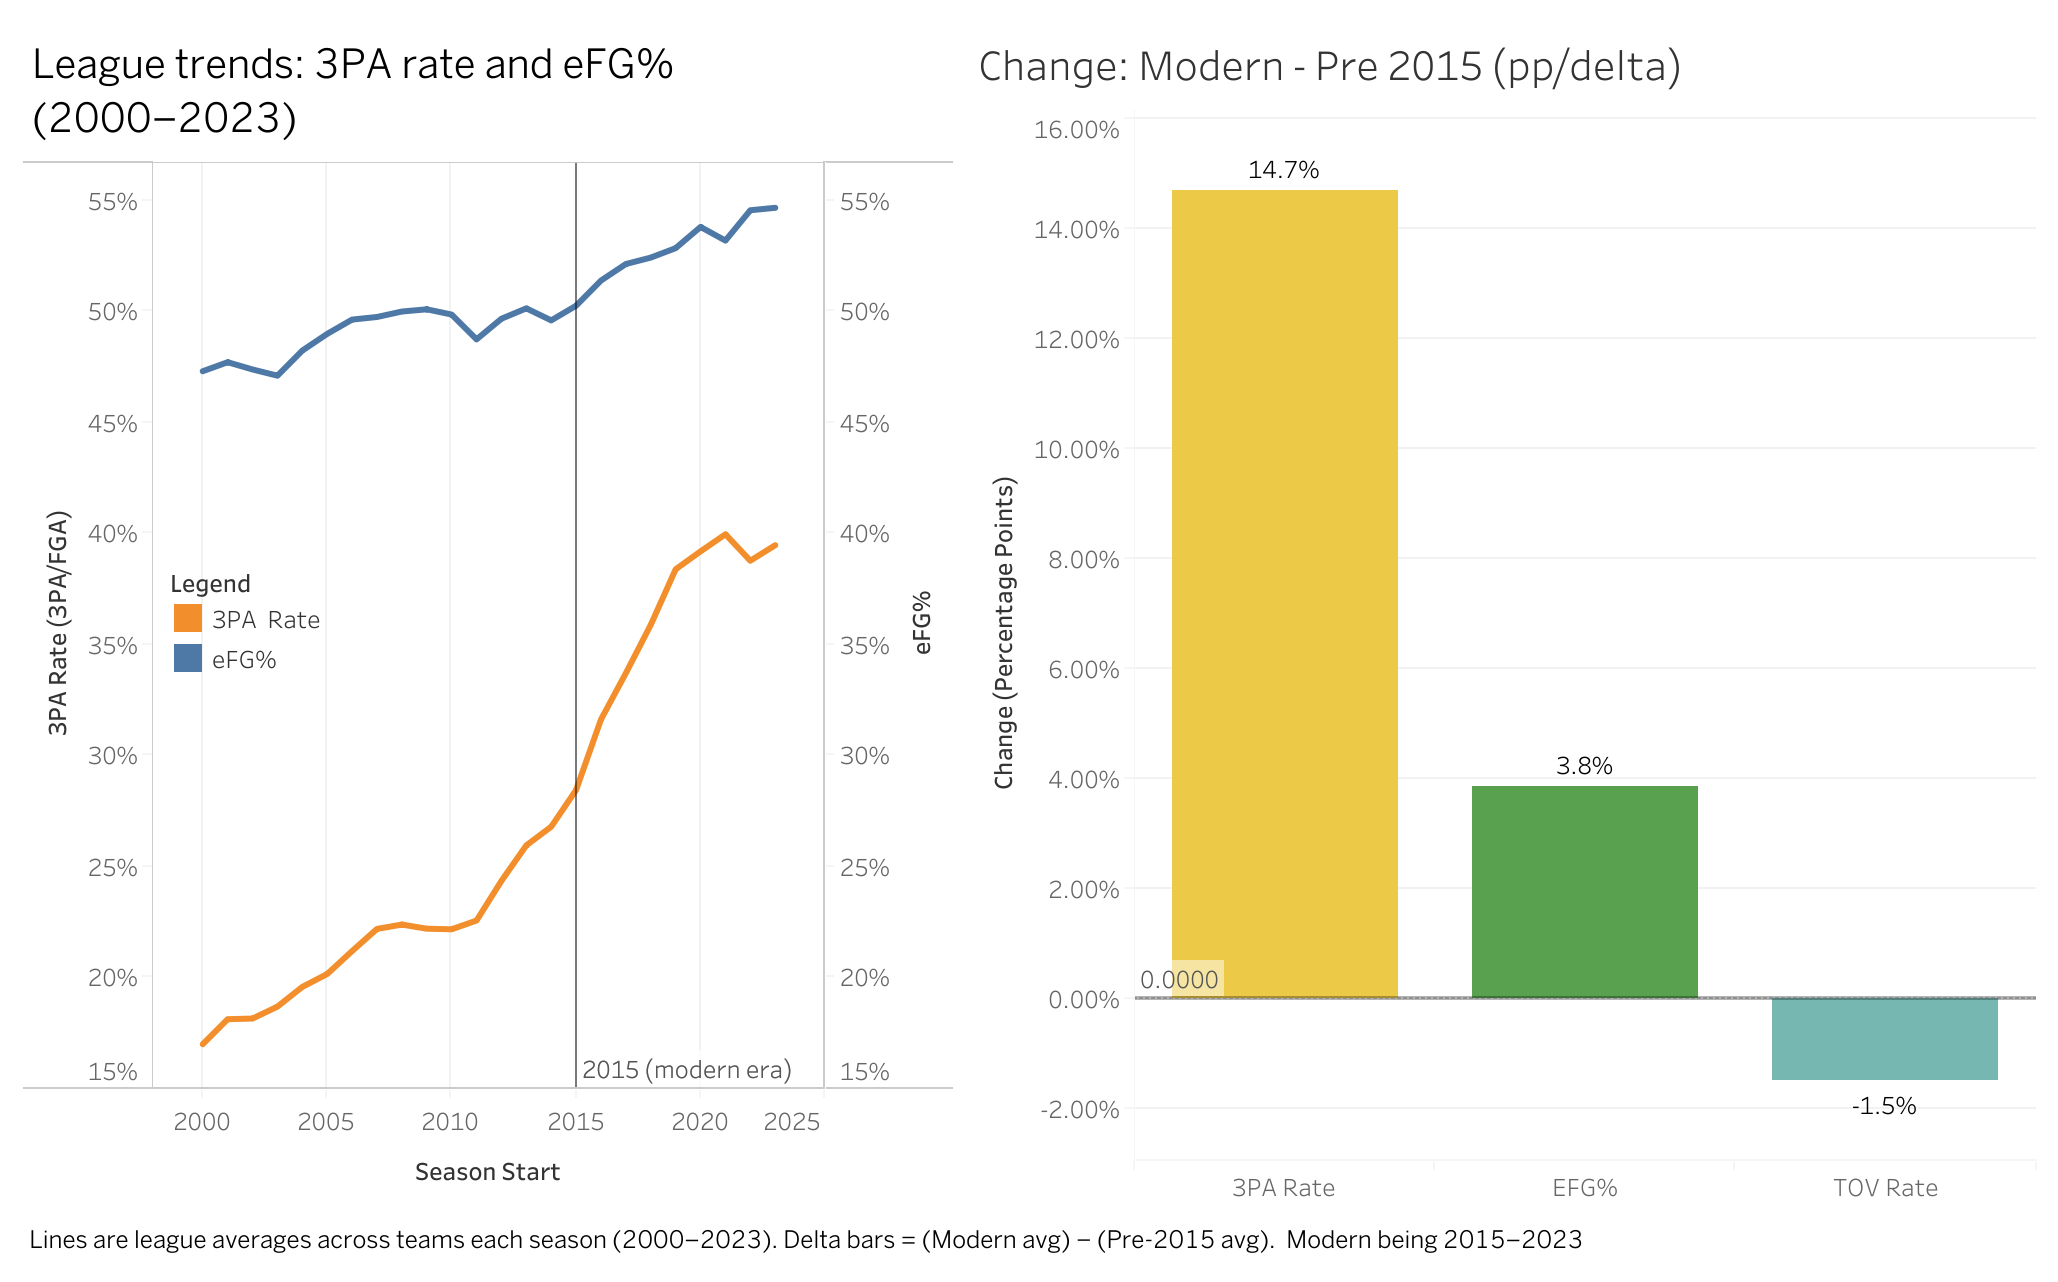

The dashboard page shown, as its layout file describes it:
{"tool":"tableau","page":{"name":"Modern vs past nba","canvas":[1000,1000],"units":"permille","ordinal":0},"visuals":[{"type":"worksheet","title":"League trends","mark":"Line","rows":["threepa_rate","efg"],"cols":["season_start"],"box":[6.8,10.9,459.9,934.6]},{"type":"worksheet","title":"Modern vs Old stats","mark":"Automatic","box":[466.6,10.9,526.6,934.6]},{"type":"legend","title":"League trends","param":"[federated.0p3zptp0jwz2pa1blsn391djmghs].[:Measure Names]","box":[81.3,435.4,117.1,87.7]},{"type":"text","box":[6.8,945.5,986.5,43.6]}]}

Visuals, with their boxes on the dashboard's canvas, which has no fixed pixel size, in thousandths of its width and height (x1, y1, x2, y2). These are canvas units, not pixel positions in the 2058x1282 screenshot, which may show the page scaled, cropped or inside an application window:
"League trends" worksheet (Line marks): 7,11,467,946
"Modern vs Old stats" worksheet: 467,11,993,946
"League trends" legend: 81,435,198,523
text: 7,946,993,989
